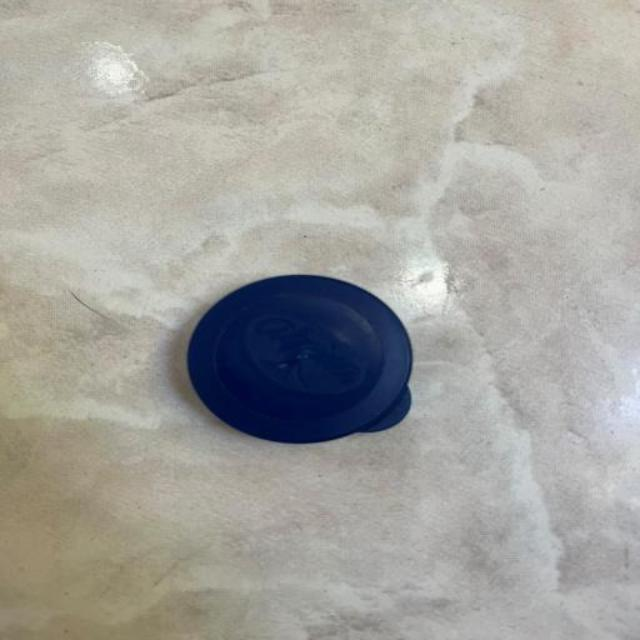HDPE: (159, 251, 472, 462)
